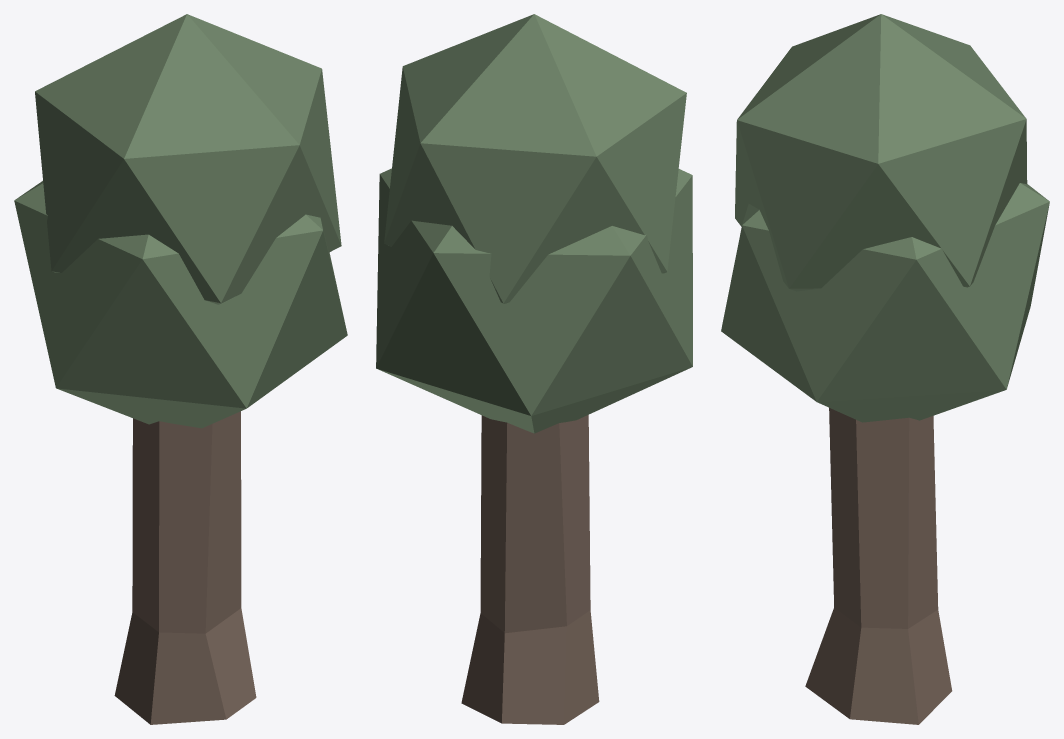
The model's file is tree.fbx.
The picture shows the model from 3 angles, left to right: view 1: azimuth 30°, elevation 25°; view 2: azimuth 150°, elevation 25°; view 3: azimuth 270°, elevation 25°; orthographic projection.
Parts seen in each view (by area): view 1: Cylinder; view 2: Cylinder; view 3: Cylinder.
Part boxes in pixels (left/top/right/bottom): Cylinder: left=14, top=14, right=347, bottom=724; Cylinder: left=376, top=14, right=692, bottom=724; Cylinder: left=721, top=14, right=1049, bottom=724.
Size of the model in its own units: 13.52 by 31.6 by 13.76.
